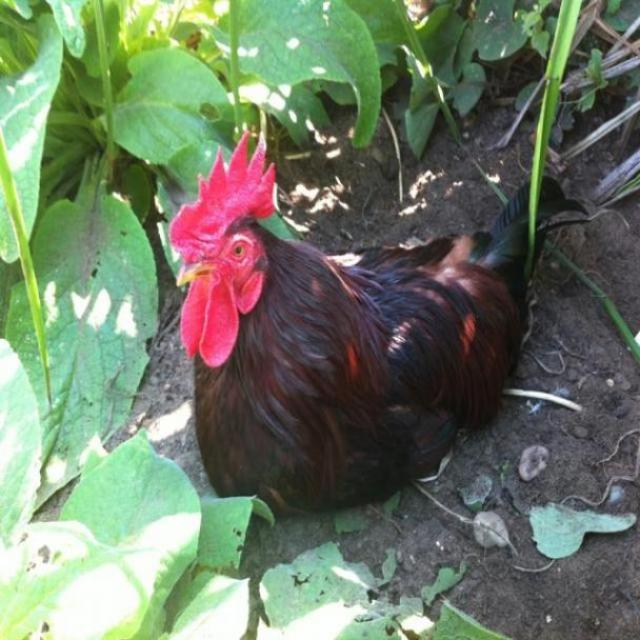Chicken: (170, 134, 587, 522)
